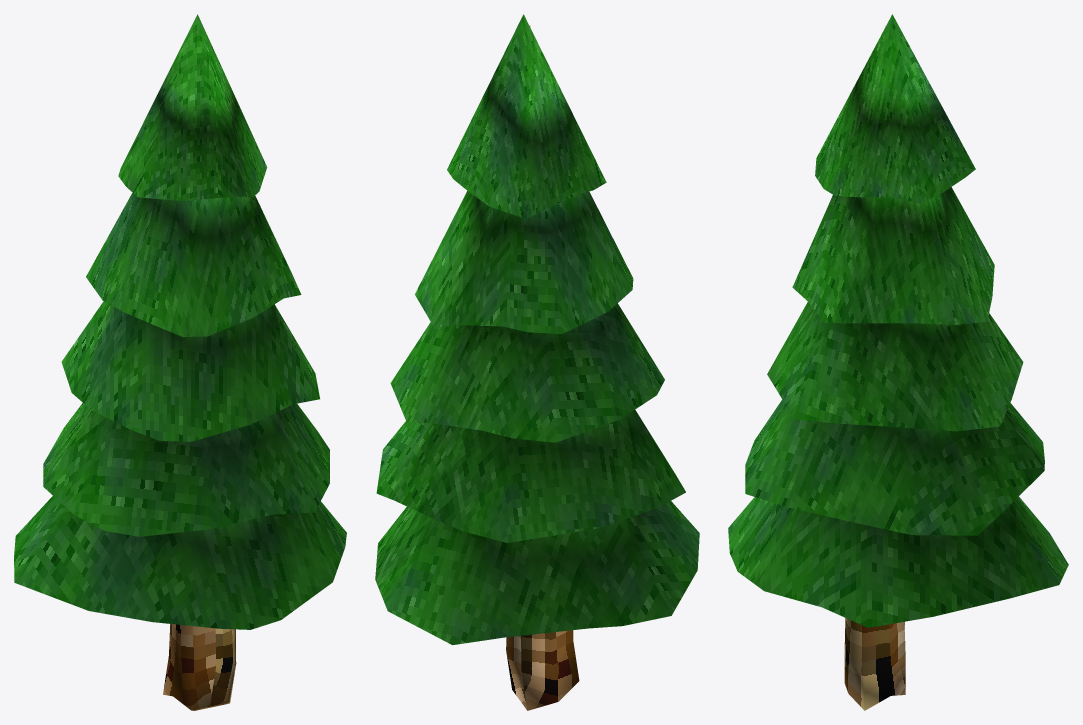
Rendered from pine.fbx.
3 renders of one model, left to right at view 1: azimuth 30°, elevation 25°; view 2: azimuth 150°, elevation 25°; view 3: azimuth 270°, elevation 25°, orthographic.
Visible parts, largest first — view 1: Plane; view 2: Plane; view 3: Plane.
Part boxes in pixels (x1,y1,x2,y2): Plane: [14, 14, 346, 710]; Plane: [375, 14, 699, 710]; Plane: [728, 14, 1068, 710].
Size of the model in its own units: 1.14 by 2.46 by 1.1.
